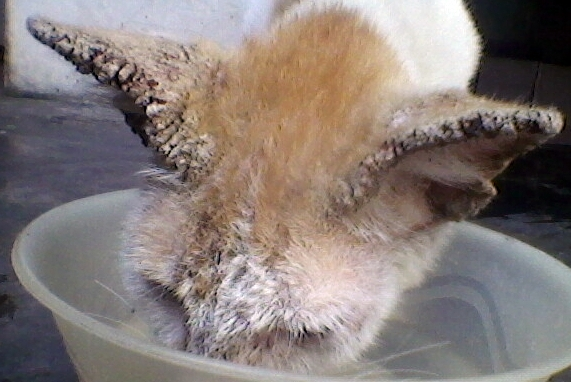kudis: (17, 7, 232, 179), (320, 91, 564, 215)
